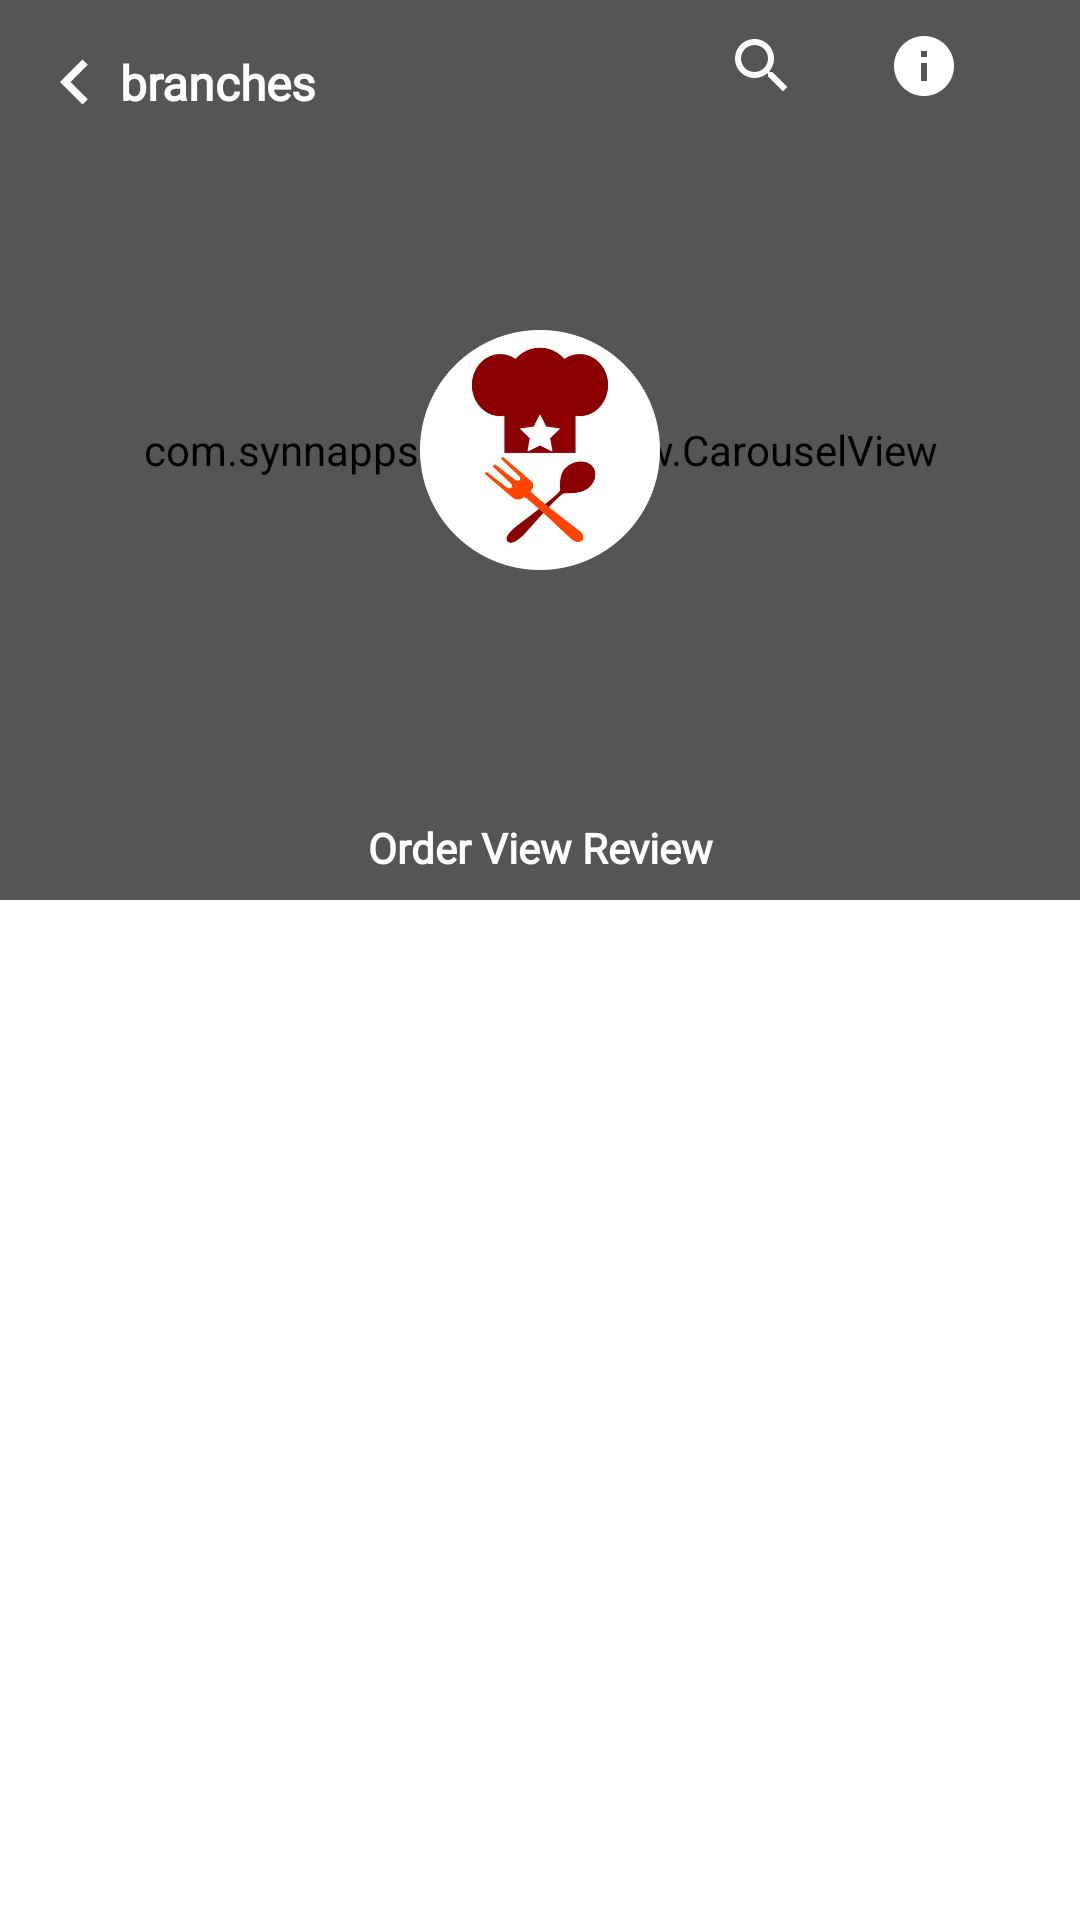

Screen size 1080px×1920px. Icon name, then its box in pixels as (x1, y1, x2, y2):
info: (894, 36, 954, 96)
search: (735, 39, 787, 91)
